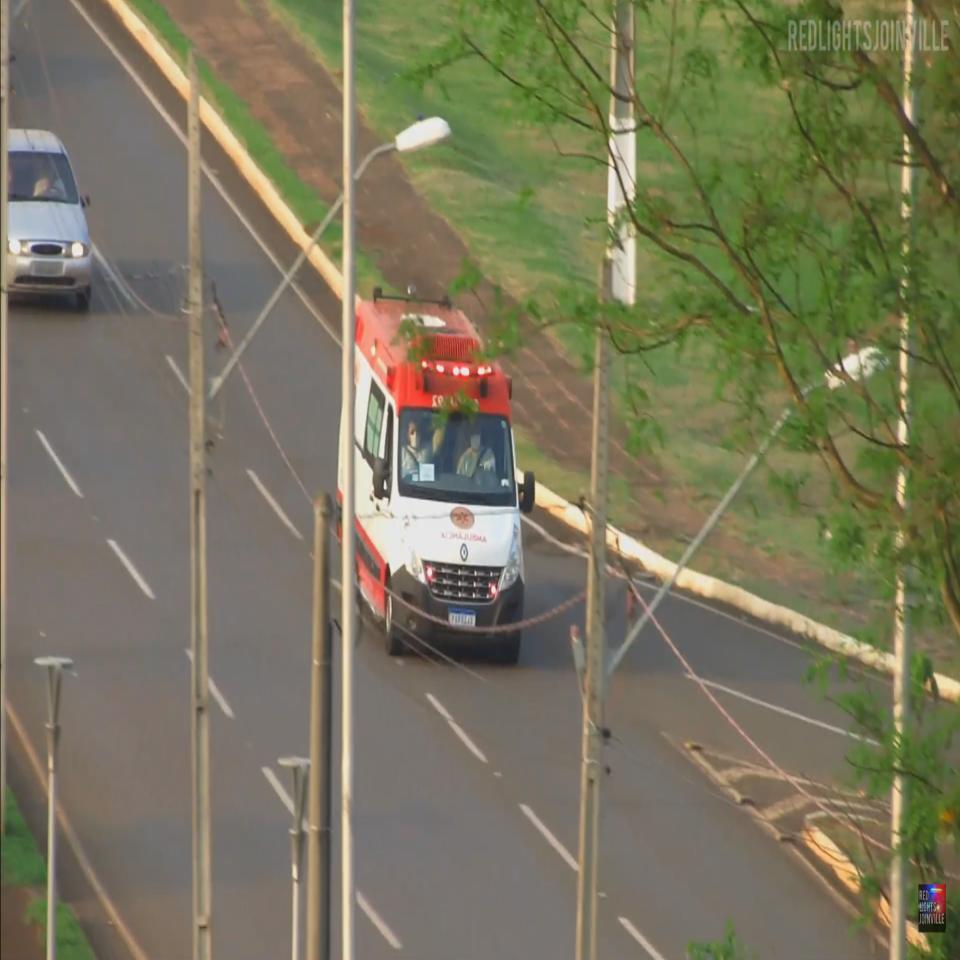bombeiro: (350, 283, 540, 670)
